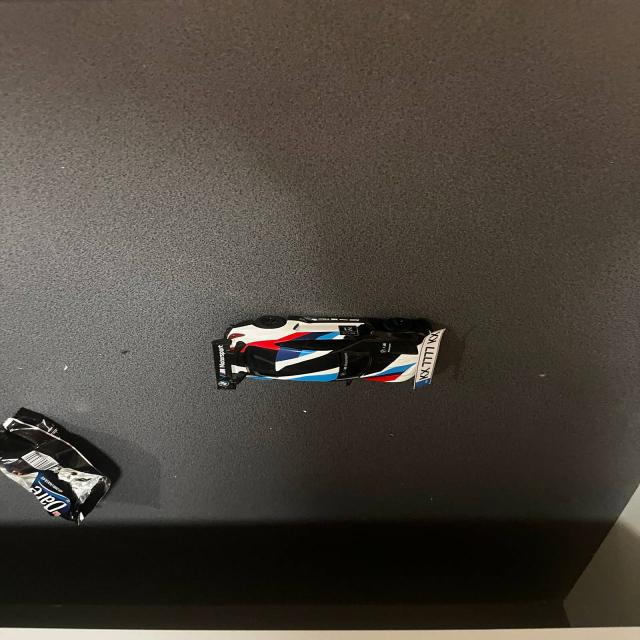cars: (205, 308, 455, 401)
